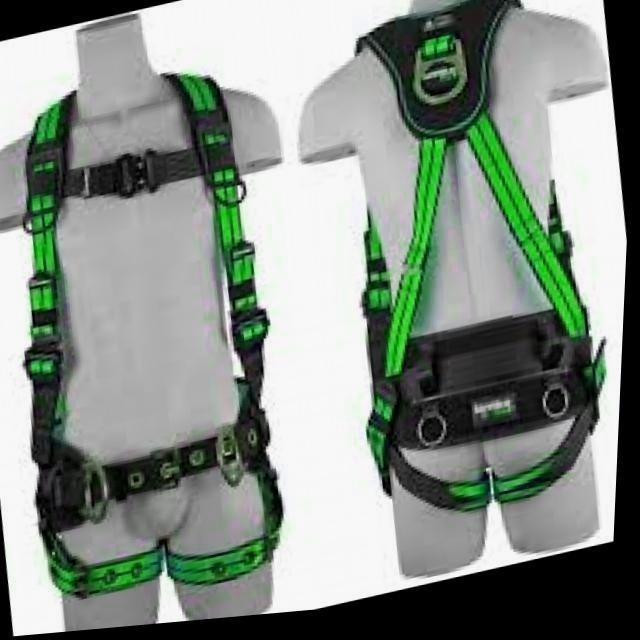safety belt: (4, 124, 291, 574), (334, 36, 600, 507)
